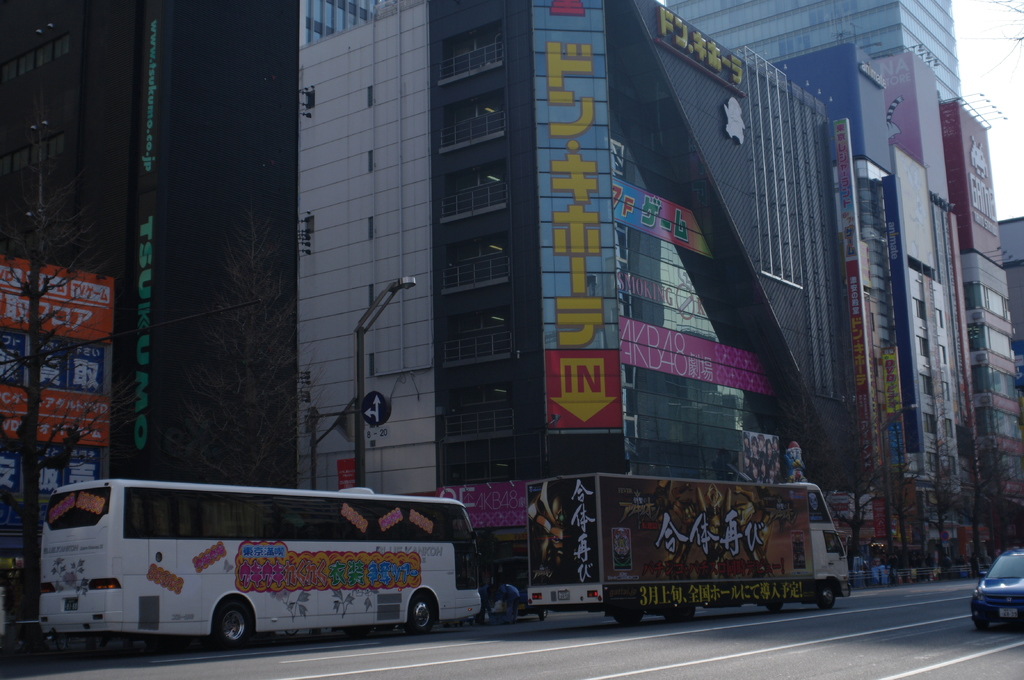Bus: (40, 481, 486, 656)
